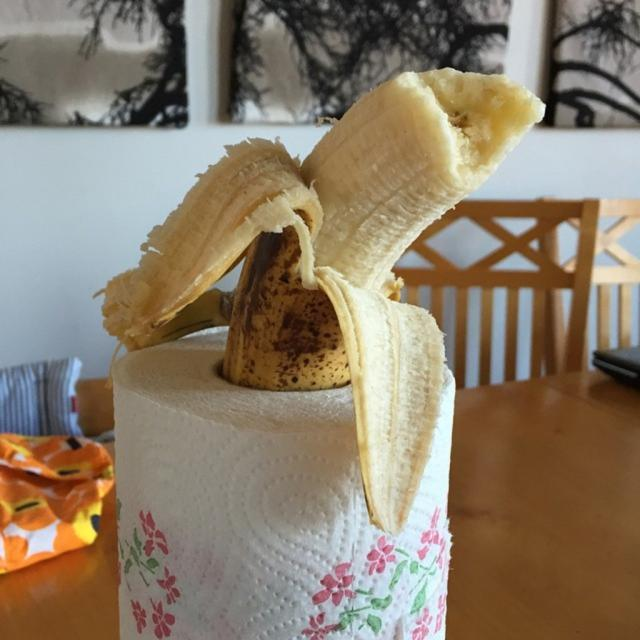Banana: (95, 70, 546, 537)
